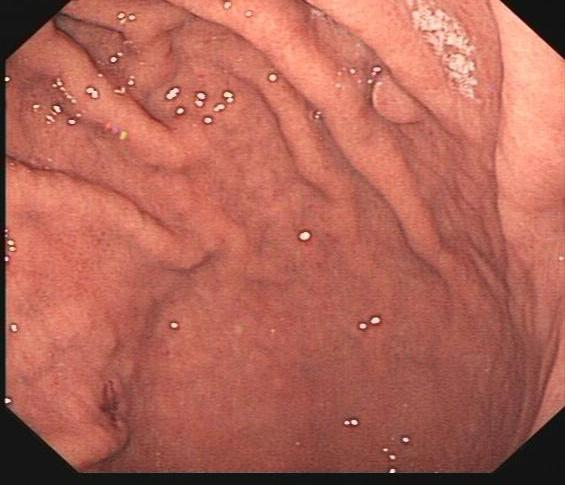Polyp: (357, 72, 438, 127)
